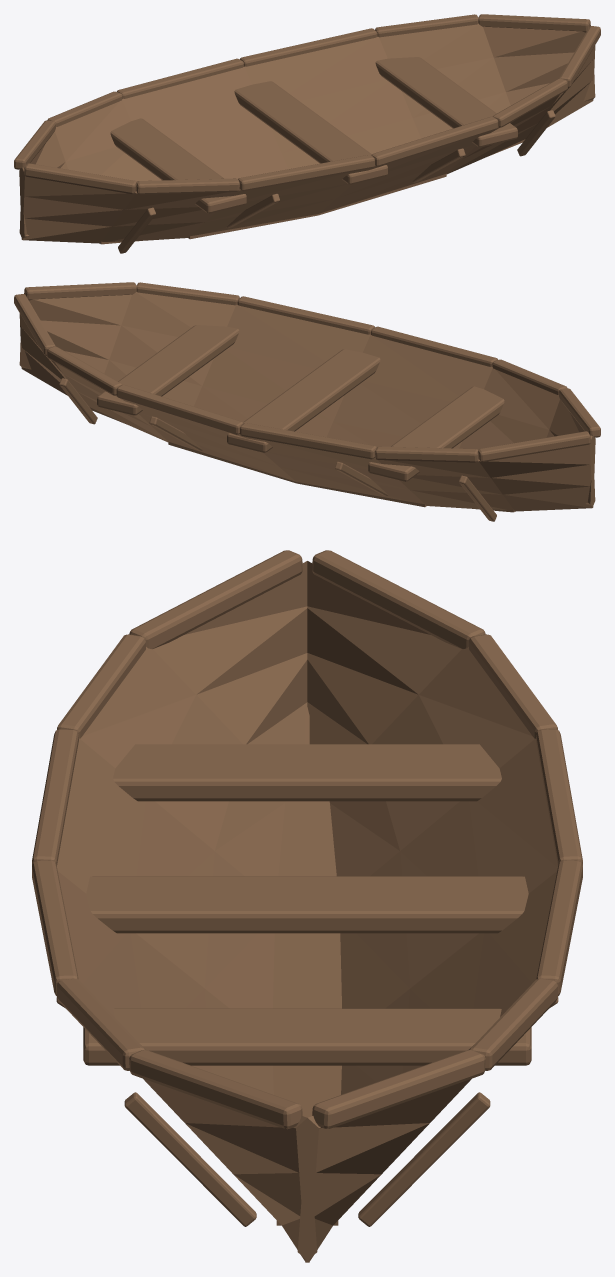
The model's file is SM_Boat.fbx.
The picture shows the model from 3 angles, top to bottom: view 1: azimuth 30°, elevation 25°; view 2: azimuth 150°, elevation 25°; view 3: azimuth 270°, elevation 25°; orthographic projection. The views are drawn at different scales.
Visible parts, largest first — view 1: SM_Boat; view 2: SM_Boat; view 3: SM_Boat.
Boxes of the visible parts, bbox=[...] form: SM_Boat: bbox=[14, 14, 600, 253]; SM_Boat: bbox=[14, 282, 600, 521]; SM_Boat: bbox=[32, 550, 582, 1262].
Bounding box in the file's own units: 4.04 × 1.67 × 0.7689.
